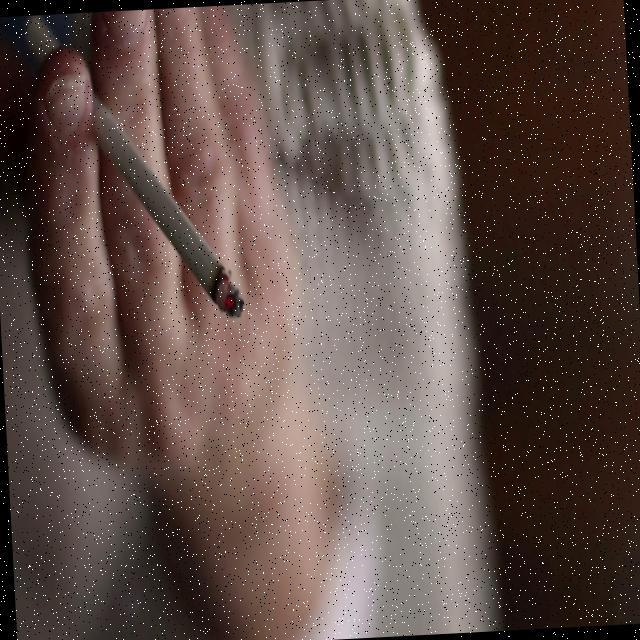cigarette: (95, 87, 248, 338)
